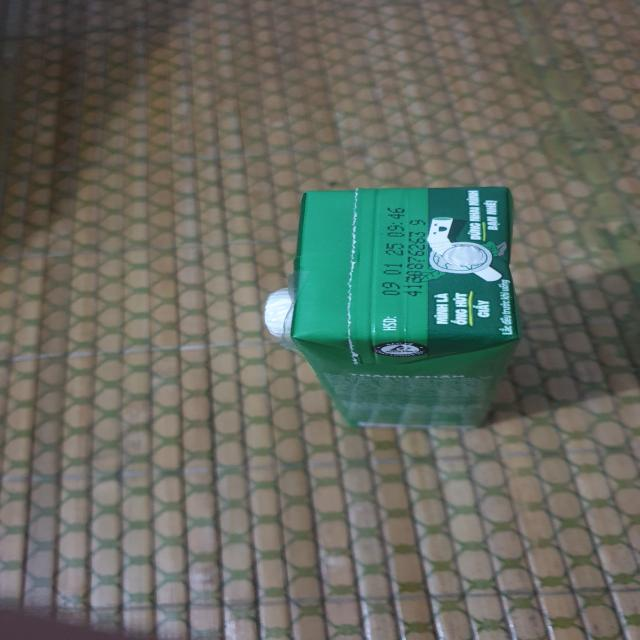Milo: (249, 184, 526, 434)
